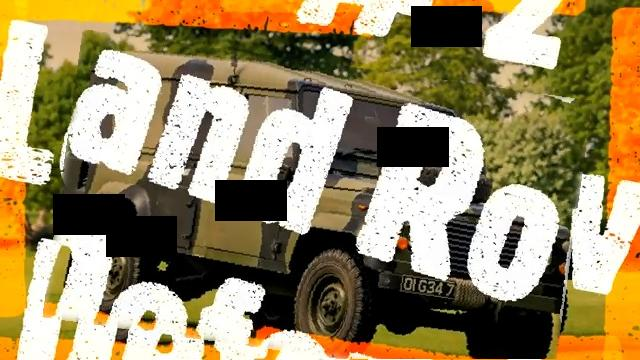MIL_HMMWV: (51, 46, 584, 360)
